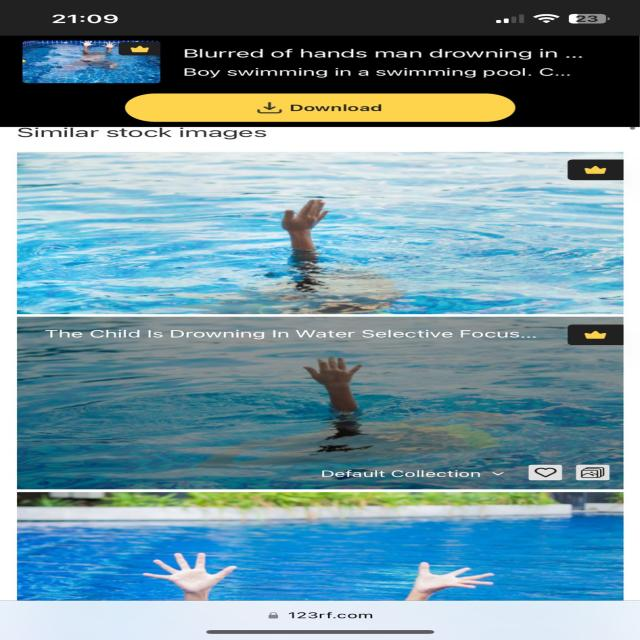Drowning: (286, 355, 426, 446), (262, 191, 362, 282)
